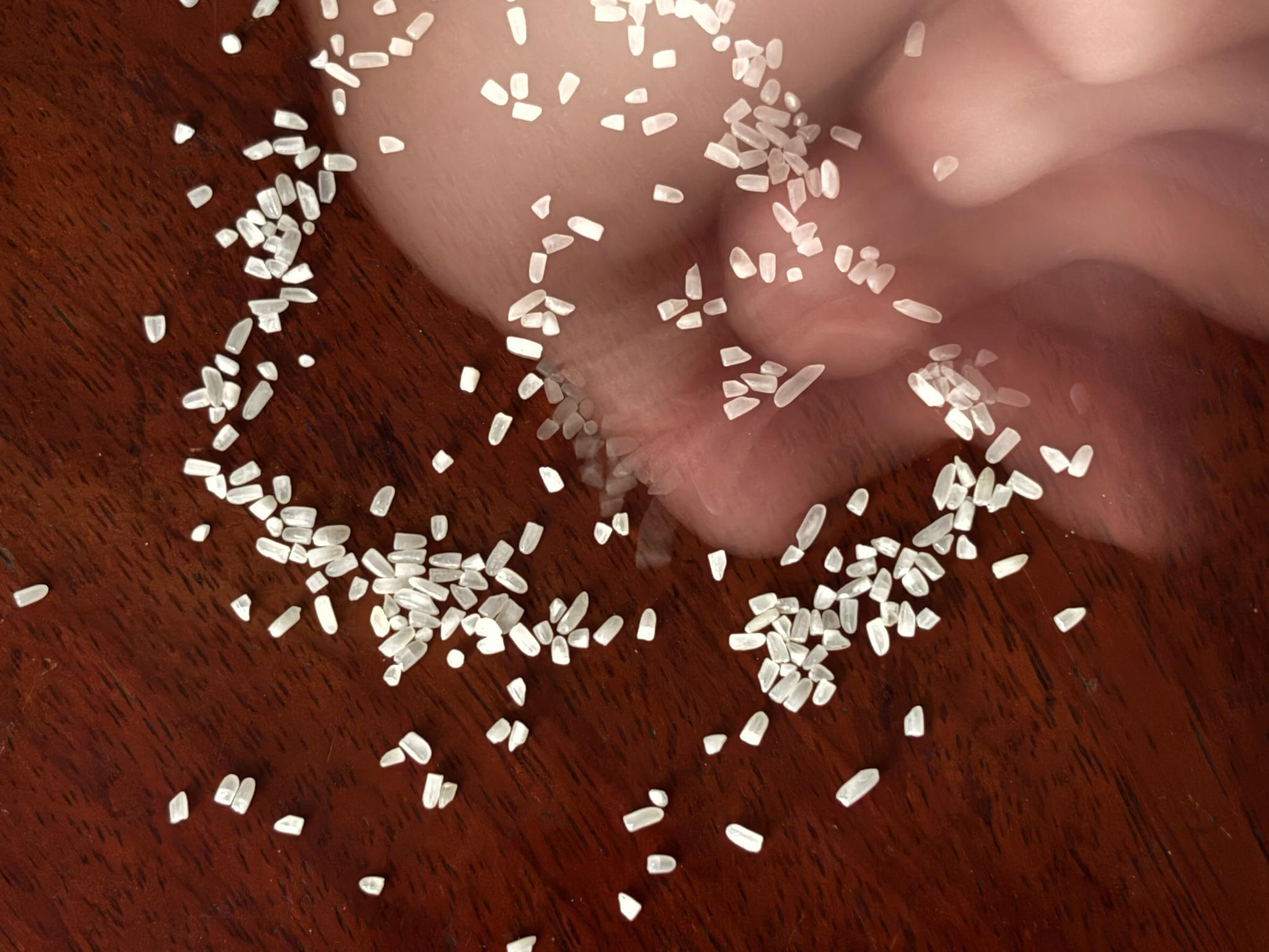Rice-th-y-nh: (792, 502, 830, 552), (835, 767, 881, 807), (911, 511, 956, 550), (959, 362, 999, 405), (556, 591, 591, 637), (982, 426, 1022, 466), (940, 363, 981, 402), (622, 800, 665, 837), (393, 584, 439, 618), (1004, 466, 1044, 505), (927, 462, 959, 510), (907, 372, 946, 409), (397, 728, 434, 767), (222, 315, 256, 357), (507, 288, 547, 323), (240, 380, 274, 421), (482, 538, 516, 579), (737, 708, 771, 749), (894, 296, 942, 325), (991, 548, 1029, 584), (767, 668, 802, 707), (198, 364, 229, 408), (729, 119, 770, 152), (378, 624, 416, 659), (273, 227, 305, 268), (292, 180, 324, 221), (863, 616, 894, 658), (361, 546, 399, 580), (834, 572, 872, 606), (969, 465, 999, 508), (246, 291, 289, 321), (312, 518, 351, 551), (724, 822, 764, 854), (408, 573, 450, 603), (1052, 602, 1088, 637), (495, 595, 525, 636), (503, 5, 533, 46), (783, 677, 815, 715), (762, 147, 793, 186), (279, 501, 318, 532), (268, 604, 302, 639), (394, 639, 429, 673), (687, 0, 721, 35), (348, 46, 389, 75), (508, 622, 541, 658), (306, 540, 345, 570), (816, 159, 845, 199), (756, 119, 792, 151), (312, 594, 340, 635), (968, 400, 999, 437), (1065, 443, 1096, 480), (437, 605, 468, 642), (371, 570, 409, 600), (867, 566, 896, 605), (182, 452, 221, 481), (835, 596, 863, 636), (729, 626, 766, 656), (890, 545, 920, 582), (901, 20, 930, 58), (787, 606, 815, 645), (893, 600, 921, 639), (228, 457, 261, 490), (913, 551, 947, 583), (944, 407, 975, 442), (254, 185, 285, 220), (516, 520, 546, 556), (367, 483, 397, 519), (212, 771, 242, 807), (604, 431, 640, 461), (418, 772, 447, 809), (323, 61, 361, 89), (271, 106, 309, 134), (566, 215, 604, 243), (680, 263, 708, 301), (226, 480, 264, 508), (592, 614, 624, 647), (230, 776, 257, 815), (704, 141, 740, 170), (744, 606, 780, 635), (505, 334, 543, 361), (722, 394, 760, 421), (235, 216, 266, 249), (1038, 443, 1071, 474), (764, 631, 794, 665), (950, 499, 979, 534), (323, 149, 358, 178), (255, 536, 291, 564), (754, 656, 781, 693), (391, 527, 428, 554), (447, 581, 479, 612), (901, 566, 932, 598), (478, 590, 510, 621), (571, 430, 603, 461), (770, 201, 800, 234), (640, 111, 678, 137), (740, 370, 778, 396), (325, 551, 359, 580), (986, 482, 1015, 516), (272, 172, 300, 207), (494, 568, 529, 596), (633, 607, 661, 642), (901, 704, 929, 739), (951, 455, 979, 490), (313, 169, 340, 205), (165, 790, 192, 826), (784, 176, 810, 213), (645, 849, 677, 879), (278, 283, 318, 307), (140, 312, 169, 345), (272, 131, 306, 159), (928, 339, 963, 366), (428, 563, 464, 589), (487, 411, 513, 447), (748, 587, 778, 618), (12, 583, 49, 608), (729, 245, 757, 278), (844, 486, 872, 519), (742, 55, 769, 89), (753, 104, 791, 128), (867, 263, 896, 294), (248, 493, 279, 522), (810, 582, 839, 613), (870, 531, 901, 560), (243, 136, 274, 165), (578, 461, 607, 492), (705, 548, 731, 582), (829, 124, 863, 150), (428, 547, 463, 572), (405, 12, 435, 41), (723, 98, 753, 127), (185, 181, 214, 211), (801, 642, 829, 673), (847, 257, 878, 285), (770, 613, 797, 645), (995, 385, 1031, 409), (505, 720, 531, 753), (755, 251, 781, 284), (819, 626, 852, 652), (269, 473, 295, 506), (547, 634, 573, 667), (605, 473, 638, 499), (845, 555, 878, 581), (388, 545, 427, 567), (598, 491, 627, 520), (182, 384, 211, 413), (407, 607, 442, 631), (476, 631, 506, 659), (457, 364, 484, 395), (953, 532, 980, 563), (810, 677, 837, 708), (282, 261, 314, 287), (556, 72, 581, 105), (457, 567, 490, 592), (762, 38, 787, 71), (525, 251, 550, 284), (624, 24, 649, 57), (551, 396, 579, 425), (212, 423, 240, 452), (616, 892, 643, 922), (943, 481, 969, 512), (504, 676, 530, 707), (473, 615, 504, 641), (656, 297, 688, 322), (281, 522, 313, 547), (516, 372, 544, 400), (538, 465, 565, 494), (480, 79, 509, 106), (831, 243, 856, 274), (737, 147, 769, 171), (541, 232, 574, 255), (293, 143, 321, 170), (790, 220, 818, 247), (203, 472, 230, 500), (485, 717, 512, 745), (784, 639, 811, 667), (345, 574, 371, 603), (624, 0, 654, 25), (561, 411, 586, 441), (718, 345, 752, 367), (736, 172, 770, 194), (593, 2, 627, 24), (220, 379, 244, 410), (802, 166, 825, 198), (368, 606, 391, 638), (783, 150, 810, 177), (701, 730, 728, 757), (945, 386, 973, 412), (507, 71, 532, 100), (544, 295, 575, 318), (273, 815, 305, 837), (531, 618, 556, 646), (244, 255, 272, 280), (377, 132, 405, 157), (822, 546, 847, 574), (541, 376, 565, 405), (711, 0, 740, 24), (393, 560, 426, 581), (314, 0, 345, 22), (504, 932, 538, 952), (566, 625, 592, 651), (213, 225, 239, 251), (758, 78, 783, 105), (877, 599, 901, 627), (773, 592, 801, 616), (213, 353, 241, 377), (230, 593, 253, 622), (806, 607, 828, 637), (916, 606, 942, 631), (702, 294, 728, 319), (779, 543, 806, 567), (808, 661, 836, 684), (358, 874, 386, 897), (428, 513, 450, 542), (734, 38, 763, 60), (654, 183, 684, 204), (258, 310, 283, 335), (431, 448, 455, 474), (459, 611, 483, 637), (591, 520, 614, 547), (610, 510, 633, 537), (539, 311, 562, 338), (437, 781, 459, 809), (379, 746, 407, 768), (547, 596, 568, 625), (329, 87, 350, 116), (933, 532, 957, 557), (305, 570, 330, 594), (512, 101, 542, 121), (536, 417, 560, 442), (819, 607, 842, 633), (782, 134, 808, 157), (382, 662, 405, 688), (728, 55, 751, 81), (797, 236, 824, 258), (795, 122, 822, 144), (721, 378, 749, 399), (286, 542, 310, 566), (274, 212, 299, 235), (264, 257, 289, 280), (388, 36, 414, 58), (251, 0, 281, 19), (651, 49, 678, 70), (461, 551, 485, 574), (759, 359, 788, 378), (380, 594, 402, 619), (445, 646, 467, 671), (172, 122, 196, 144), (531, 194, 552, 219), (974, 347, 999, 368), (676, 311, 703, 330), (520, 311, 547, 330), (256, 360, 279, 382), (647, 787, 670, 809), (854, 541, 878, 562), (600, 113, 625, 133), (932, 375, 952, 400), (190, 522, 212, 544), (264, 516, 286, 538), (220, 33, 242, 55), (625, 86, 649, 106), (244, 207, 267, 227), (261, 232, 281, 255), (372, 0, 398, 17), (783, 91, 802, 114), (207, 405, 228, 425), (310, 49, 330, 70), (653, 0, 677, 17), (777, 660, 798, 679), (329, 33, 346, 56), (578, 398, 596, 419), (858, 245, 880, 262), (414, 626, 434, 644), (390, 613, 409, 631), (785, 266, 804, 284), (261, 220, 278, 238), (297, 353, 316, 368), (582, 420, 599, 436), (588, 0, 620, 8), (302, 221, 317, 237), (174, 0, 204, 8)
